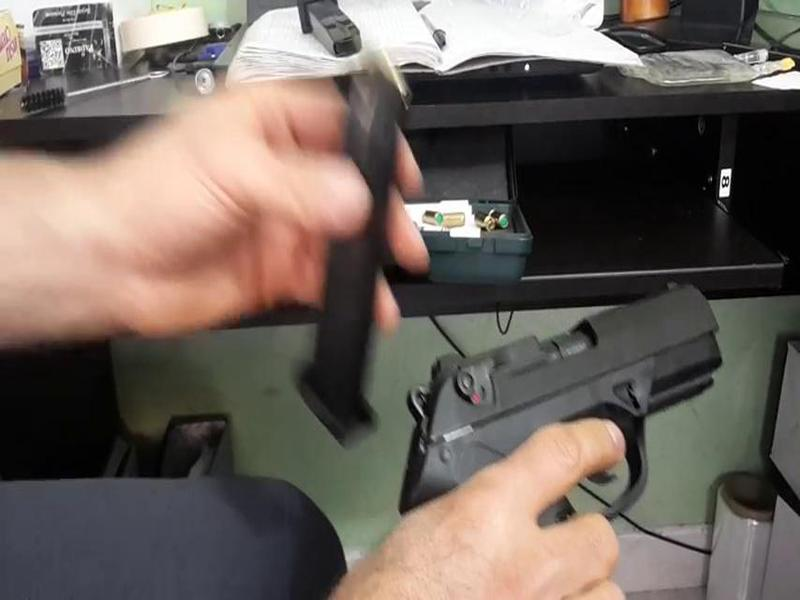Pistola: (400, 262, 724, 535)
